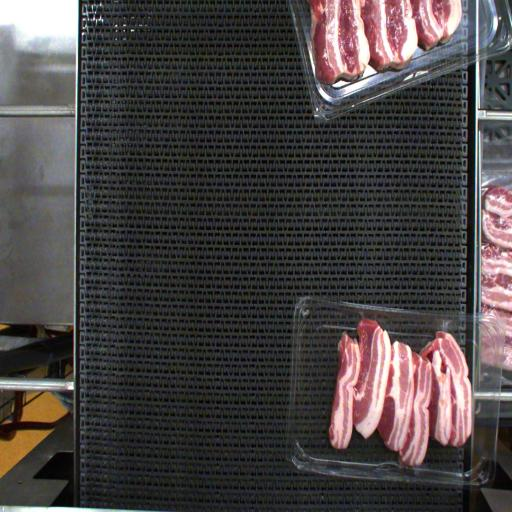packaging-error: (432, 313, 453, 344)
